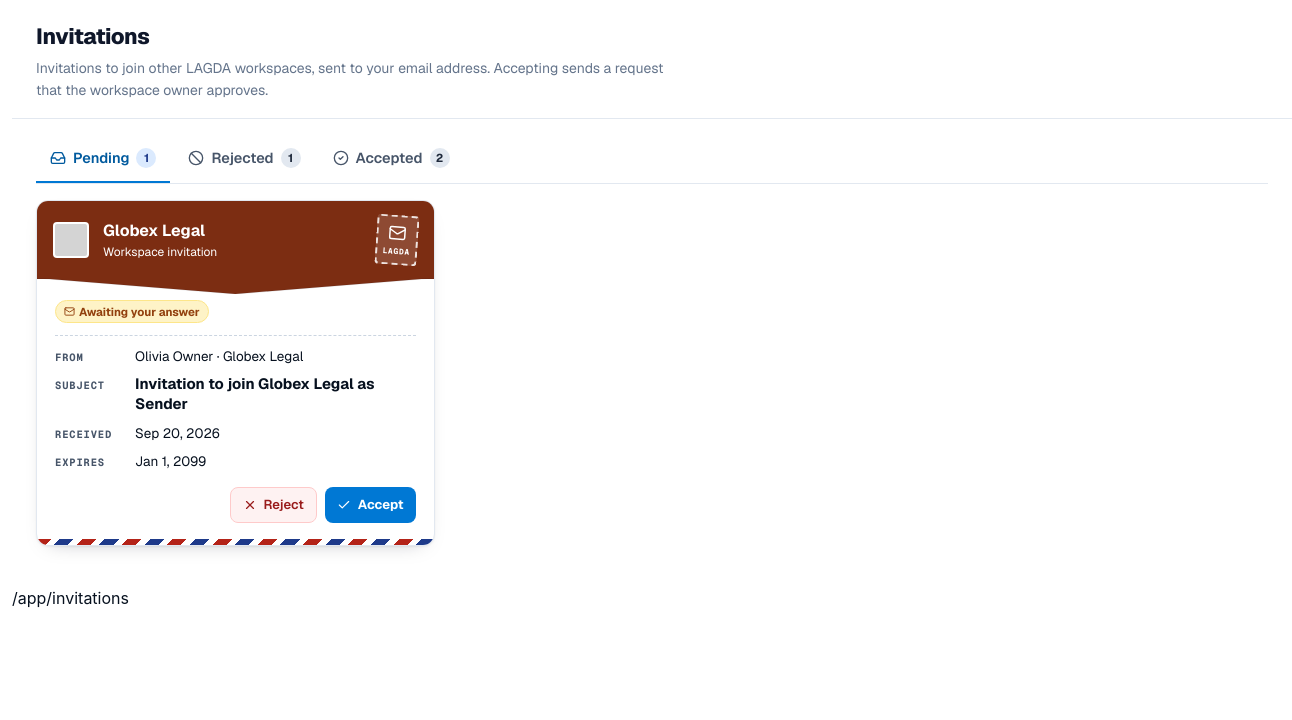
Test: Invitations page › accepting files the request and says the owner will approve access
The width and height of the screenshot is (1292, 720).
Click the button with aria-label "Accept: Invitation to join Globex Legal as Sender": x=370, y=505 left=325, top=487, right=416, bottom=523
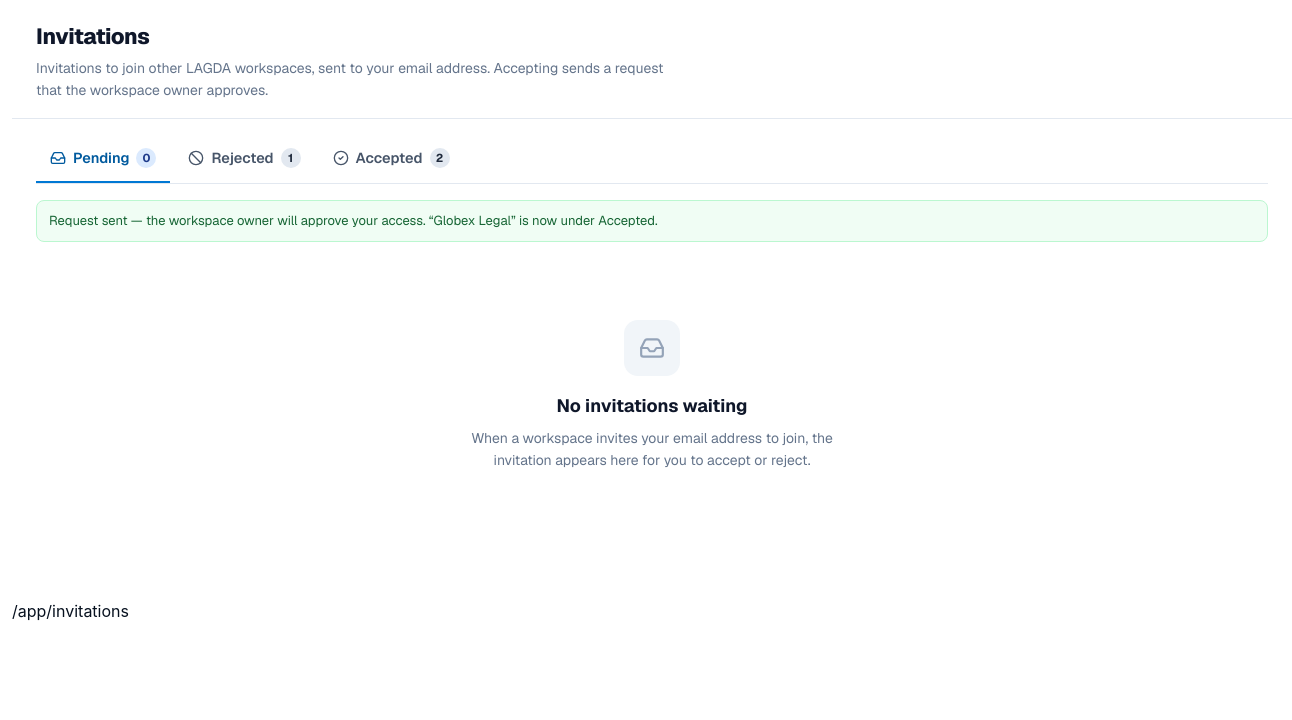
Expected: the text "Request sent — the workspace owner will approve your access." is shown, left=49, top=212, right=658, bottom=228
